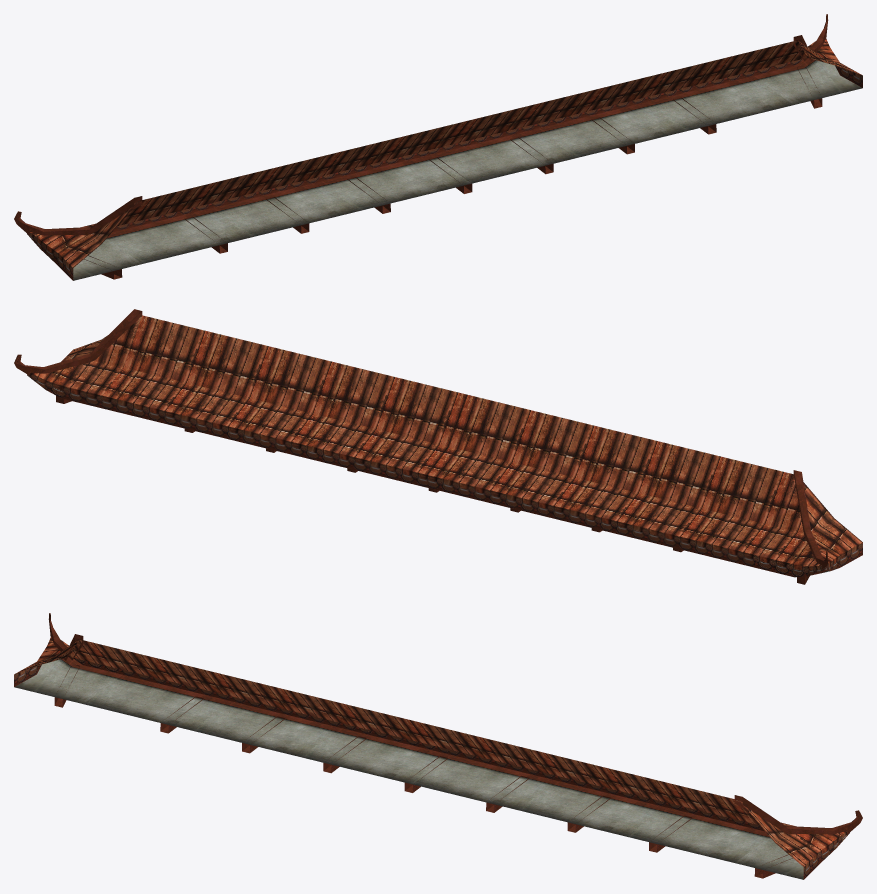
File: roof_attachment_it_20m.fbx
The picture shows the model from 3 angles, top to bottom: view 1: azimuth 30°, elevation 25°; view 2: azimuth 150°, elevation 25°; view 3: azimuth 330°, elevation 25°; orthographic projection.
Visible parts, largest first — view 1: mesh_0, mesh_1; view 2: mesh_1, mesh_0; view 3: mesh_0, mesh_1.
Part boxes in pixels (x1,y1,x2,y2): mesh_0: [14, 14, 862, 280]; mesh_1: [30, 38, 861, 267]; mesh_1: [30, 315, 862, 566]; mesh_0: [14, 309, 862, 584]; mesh_0: [14, 613, 862, 879]; mesh_1: [15, 637, 846, 866].
Bounding box in the file's own units: 2000 × 180 × 201.
2 materials, 2 textured.
